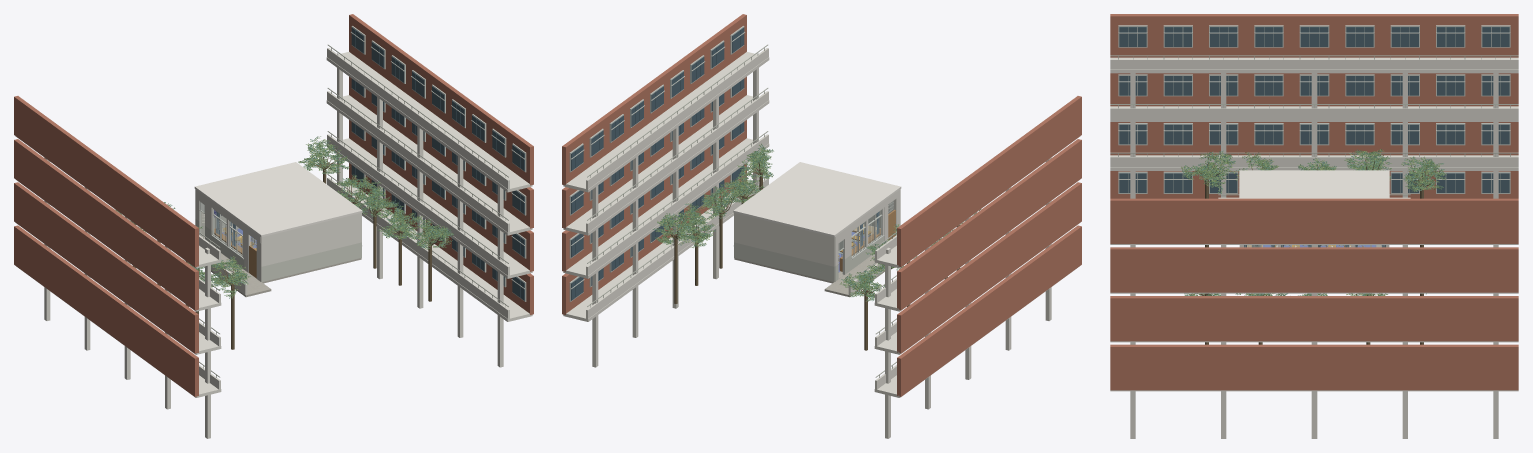
The model's file is starroom.glb.
3 views of the same model, side by side, from view 1: azimuth 30°, elevation 25°; view 2: azimuth 150°, elevation 25°; view 3: azimuth 270°, elevation 25° (orthographic). The views are drawn at different scales.
Parts seen in each view (by area): view 1: 窗外景深 · 对楼陶色窗间墙、廊板及绿荫, 房间 · 双侧窗洞、磨石地面与顶梁, Rear | open classroom doorway, transom and recess; view 2: 窗外景深 · 对楼陶色窗间墙、廊板及绿荫, 房间 · 双侧窗洞、磨石地面与顶梁, Rear | open classroom doorway, transom and recess; view 3: 窗外景深 · 对楼陶色窗间墙、廊板及绿荫, 房间 · 双侧窗洞、磨石地面与顶梁.
Boxes of the visible parts, x1,y1,x2,y2 form: 窗外景深 · 对楼陶色窗间墙、廊板及绿荫: (14,14,533,438); 房间 · 双侧窗洞、磨石地面与顶梁: (194,162,362,283); Rear | open classroom doorway, transom and recess: (195,189,212,243); 窗外景深 · 对楼陶色窗间墙、廊板及绿荫: (562,14,1081,438); 房间 · 双侧窗洞、磨石地面与顶梁: (733,162,901,283); Rear | open classroom doorway, transom and recess: (834,225,851,281); 窗外景深 · 对楼陶色窗间墙、廊板及绿荫: (1110,14,1518,438); 房间 · 双侧窗洞、磨石地面与顶梁: (1239,170,1389,247).
Bounding box in the file's own units: 28.74 × 17.95 × 26.55.
Materials: 50 (3 with a texture image).
